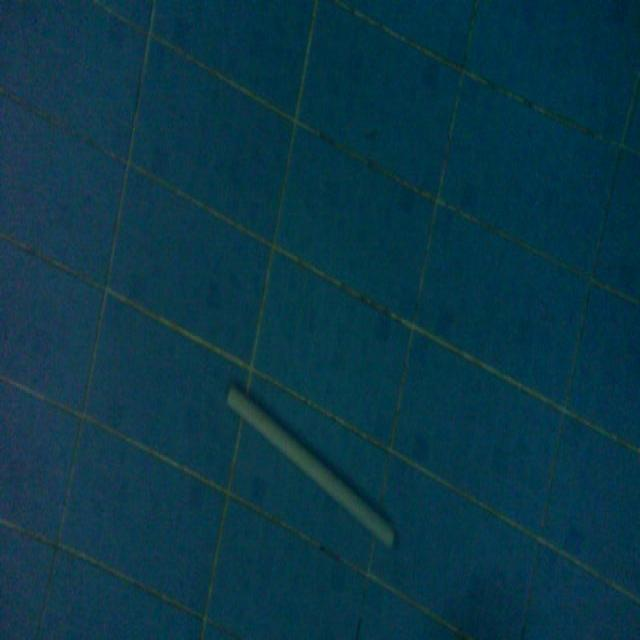Cube: (224, 377, 397, 551)
